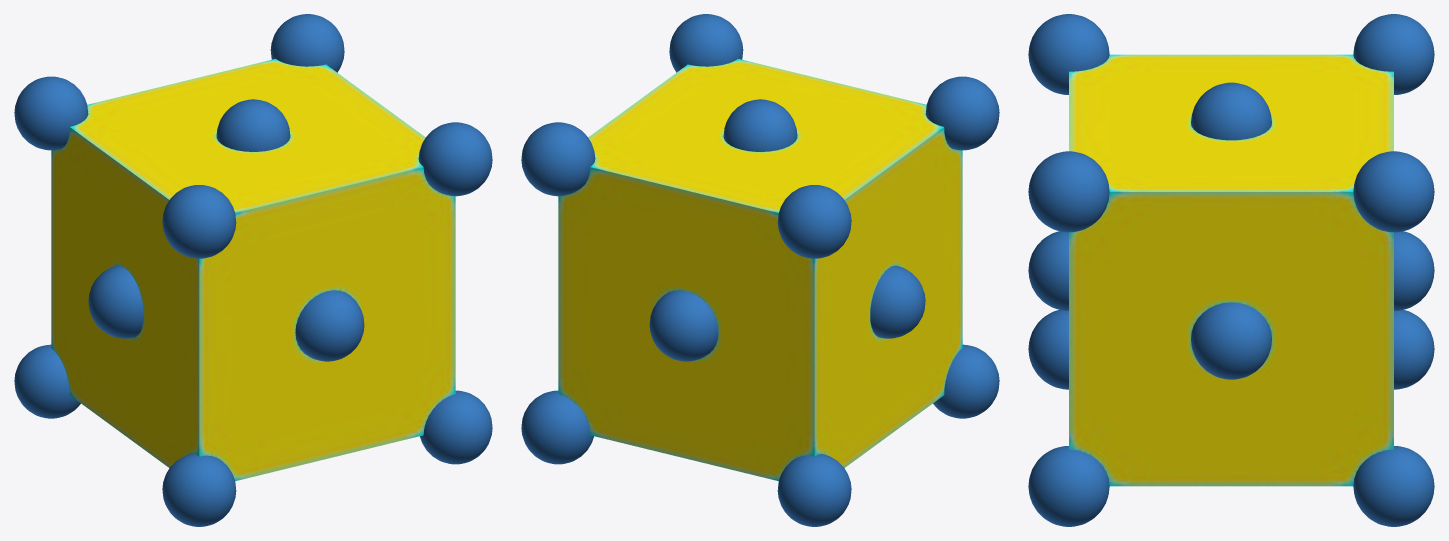
The model's file is fccmain.glb.
The picture shows the model from 3 angles, left to right: view 1: azimuth 30°, elevation 25°; view 2: azimuth 150°, elevation 25°; view 3: azimuth 270°, elevation 25°; orthographic projection. The views are drawn at different scales.
Visible parts, largest first — view 1: Cubique_face_centre; view 2: Cubique_face_centre; view 3: Cubique_face_centre.
Boxes of the visible parts, x1,y1,x2,y2 form: Cubique_face_centre: (14,14,492,526); Cubique_face_centre: (521,14,999,526); Cubique_face_centre: (1028,14,1434,526).
Bounding box in the file's own units: 12.5 × 12.5 × 12.5.
Materials: 2 (2 with a texture image).
